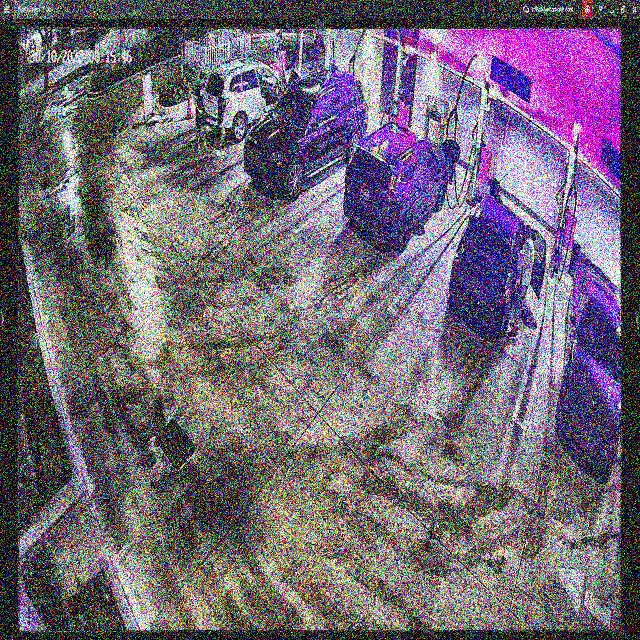Car: (244, 75, 366, 193), (346, 115, 448, 253), (451, 192, 546, 328)
